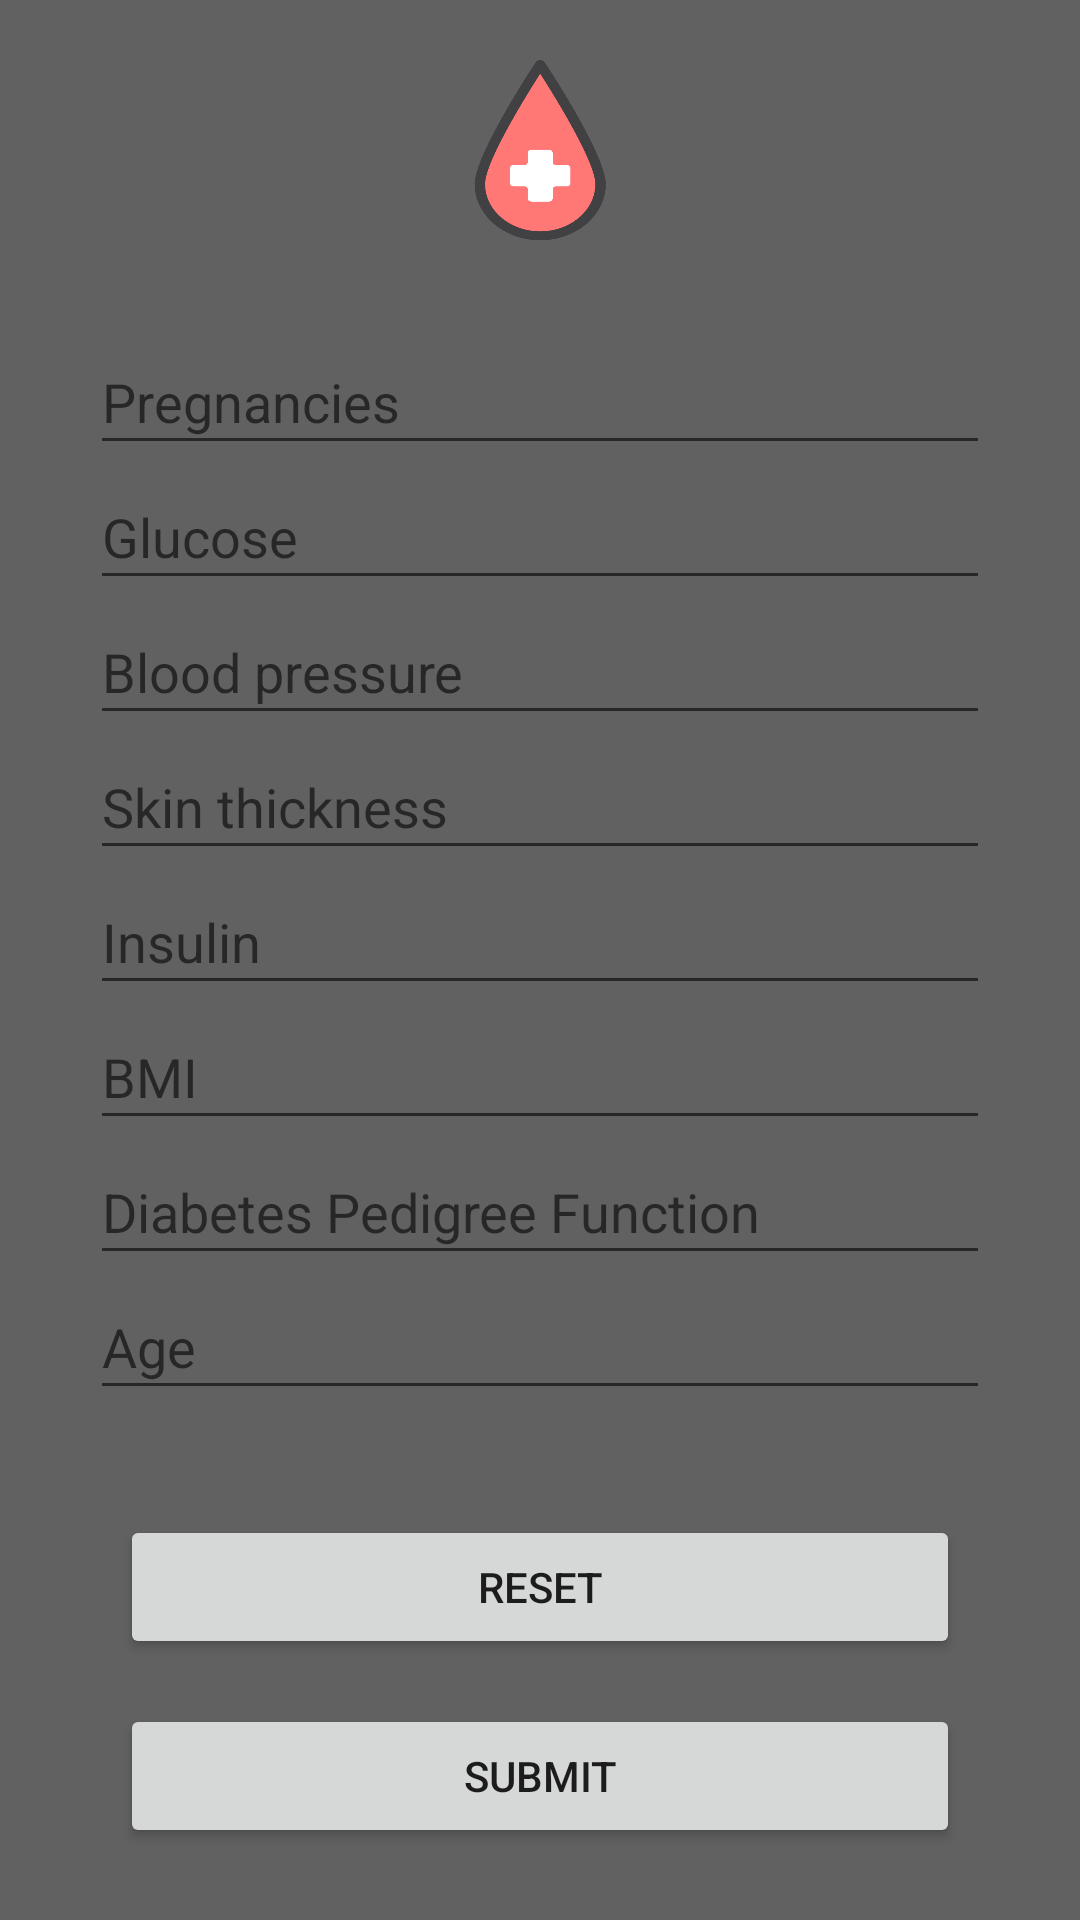

Locate icon controls on the screen. Image size 1080*1920, boxes as (x1, y1, x2, y2).
blooddrop: (475, 60, 606, 240)
